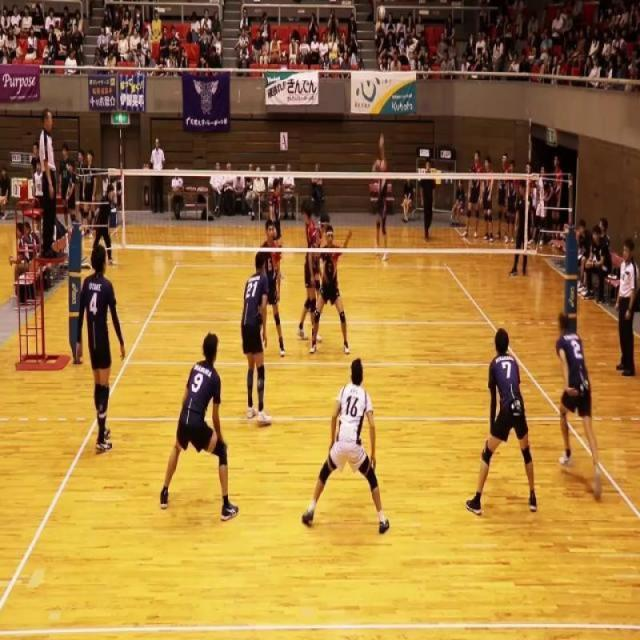volleyball: (378, 6, 386, 20)
